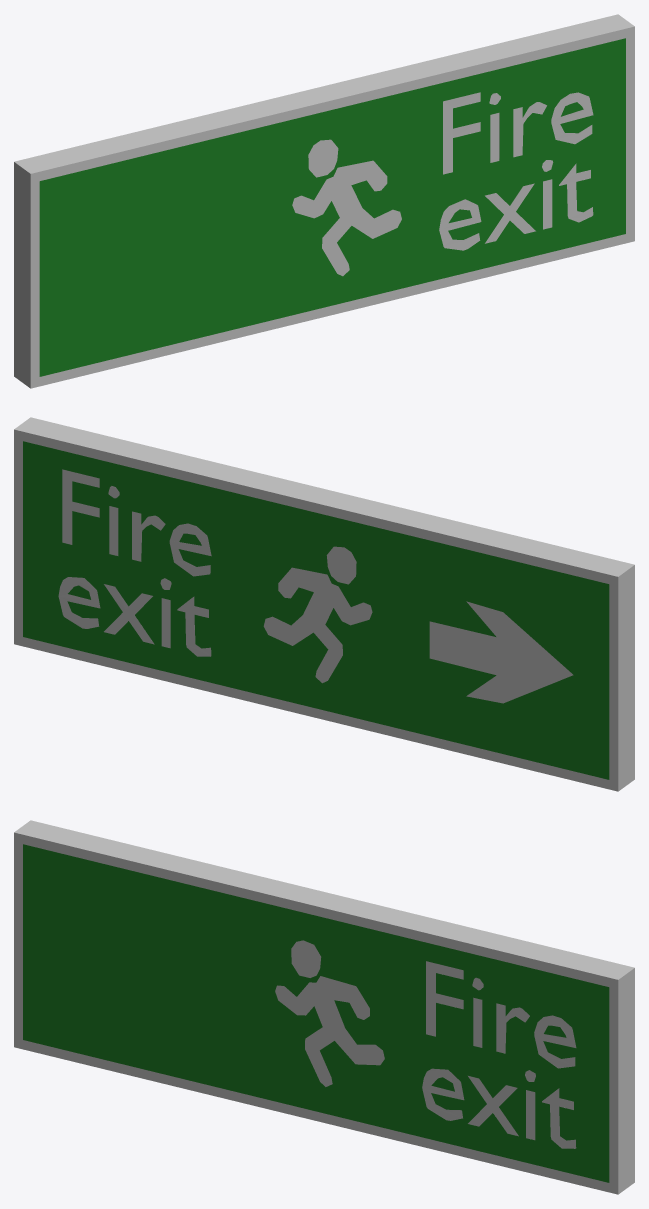
The model's file is exit_sign.glb.
3 renders of one model, top to bottom at view 1: azimuth 30°, elevation 25°; view 2: azimuth 150°, elevation 25°; view 3: azimuth 330°, elevation 25°, orthographic.
Parts seen in each view (by area): view 1: exit_sign; view 2: exit_sign; view 3: exit_sign.
Part boxes in pixels (x1,y1,x2,y2): exit_sign: [14, 14, 634, 388]; exit_sign: [14, 417, 634, 791]; exit_sign: [14, 820, 634, 1194].
Size of the model in its own units: 0.7361 by 0.25 by 0.0394.
